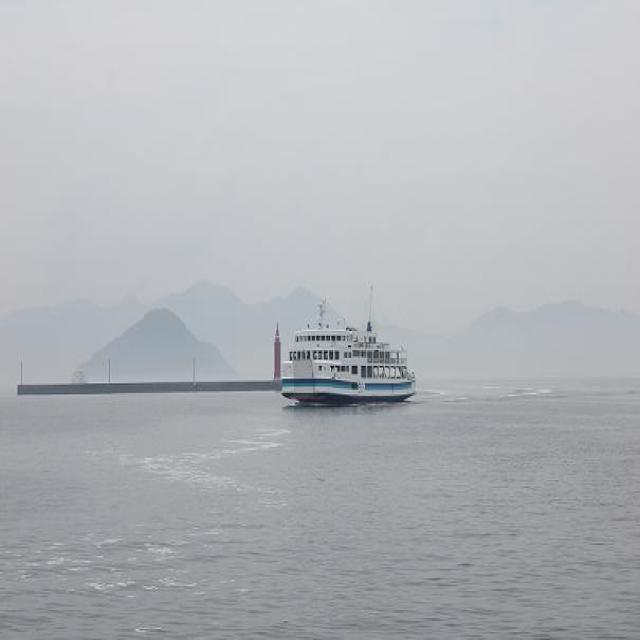passenger ship: (269, 282, 409, 408)
